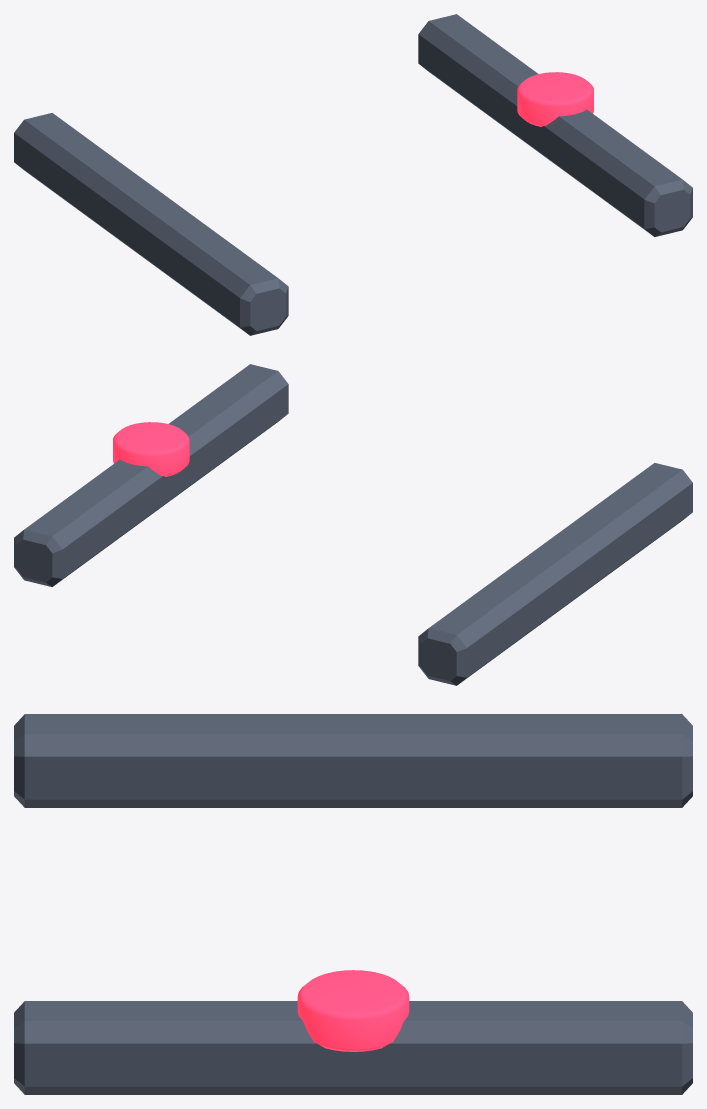
The model's file is tower_filament_peak_s2.glb.
3 renders of one model, top to bottom at view 1: azimuth 30°, elevation 25°; view 2: azimuth 150°, elevation 25°; view 3: azimuth 270°, elevation 25°, orthographic. The views are drawn at different scales.
Parts seen in each view (by area): view 1: filament_lens_brace_r, filament_lens_brace_l, filament_up_peak_l2_stud; view 2: filament_lens_brace_r, filament_lens_brace_l, filament_up_peak_l2_stud; view 3: filament_lens_brace_r, filament_lens_brace_l, filament_up_peak_l2_stud.
Part boxes in pixels (x1,y1,x2,y2): filament_lens_brace_r: (14,113,288,335); filament_lens_brace_l: (418,14,692,236); filament_up_peak_l2_stud: (517,72,593,126); filament_lens_brace_r: (418,463,692,685); filament_lens_brace_l: (14,364,288,586); filament_up_peak_l2_stud: (113,422,189,476); filament_lens_brace_r: (14,714,692,807); filament_lens_brace_l: (14,1001,692,1094); filament_up_peak_l2_stud: (297,970,409,1051).
Bounding box in the file's own units: 0.3884 × 0.0518 × 0.34.
